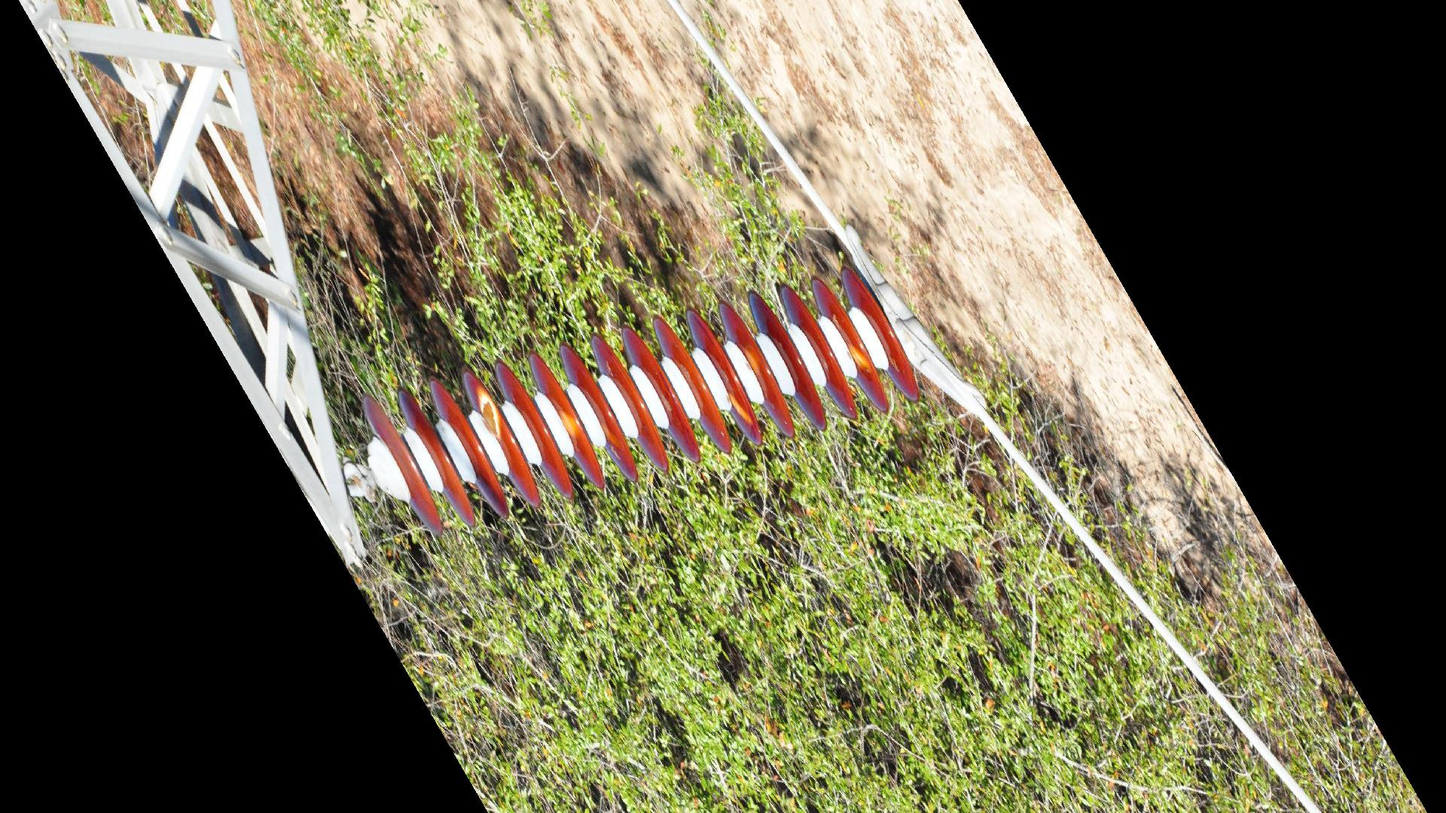insulator: (355, 260, 927, 541)
insulator_flashover: (474, 384, 502, 439), (728, 391, 755, 426), (847, 343, 872, 373)
